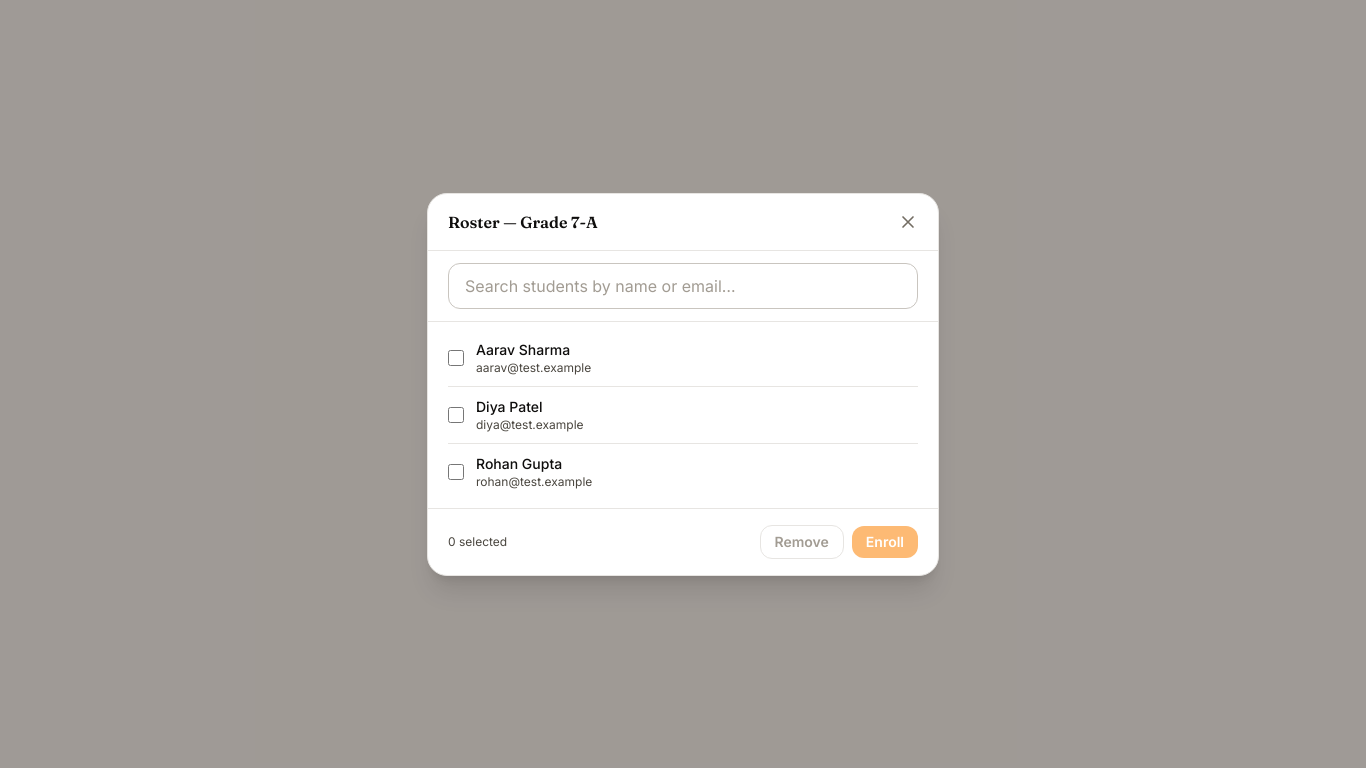
Test: EnrollStudentsModal › enroll/remove buttons are disabled until a student is selected
Check: the button "Enroll" is disabled, box [852, 526, 918, 558]
Step 1. Click the checkbox labelled "Aarav Sharma aarav@test.example" → point(456, 358), box [448, 350, 464, 366]
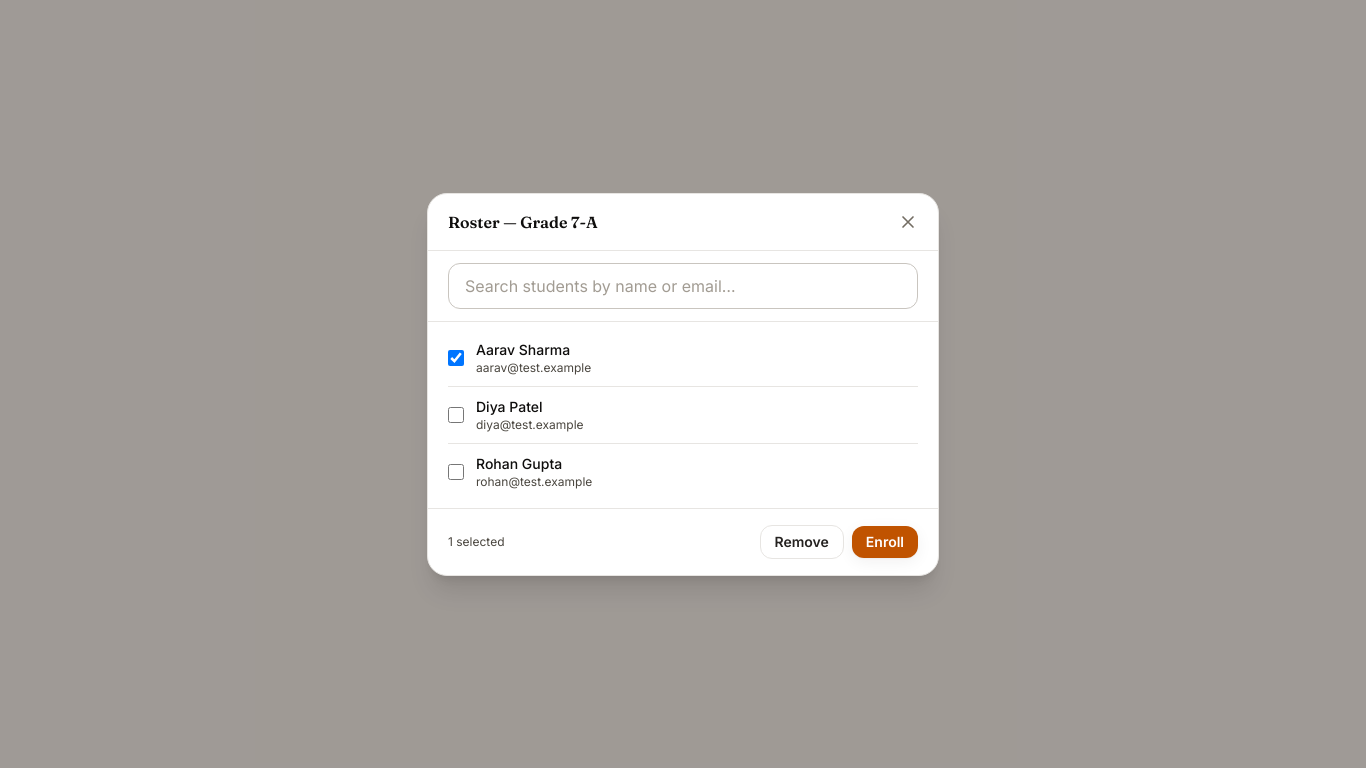
Check: the button "Enroll" is enabled, box [852, 526, 918, 558]
